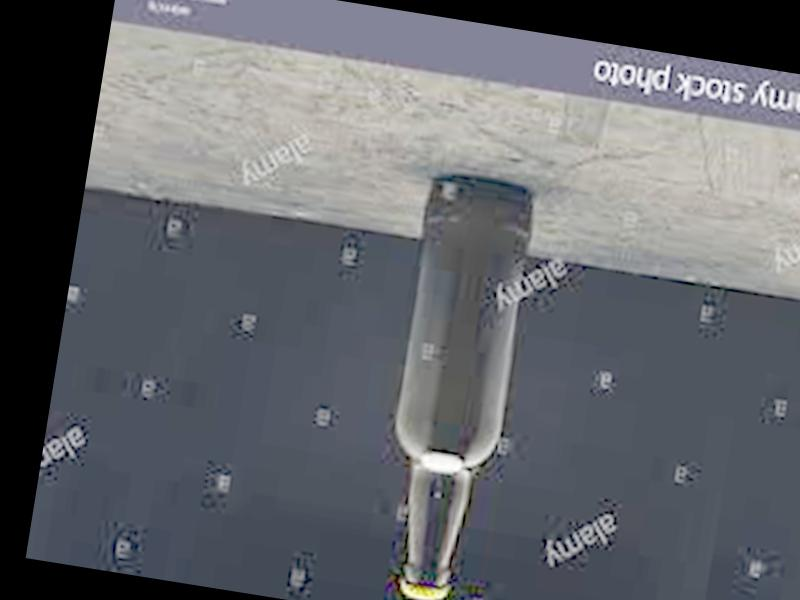Beer: (366, 173, 529, 600)
